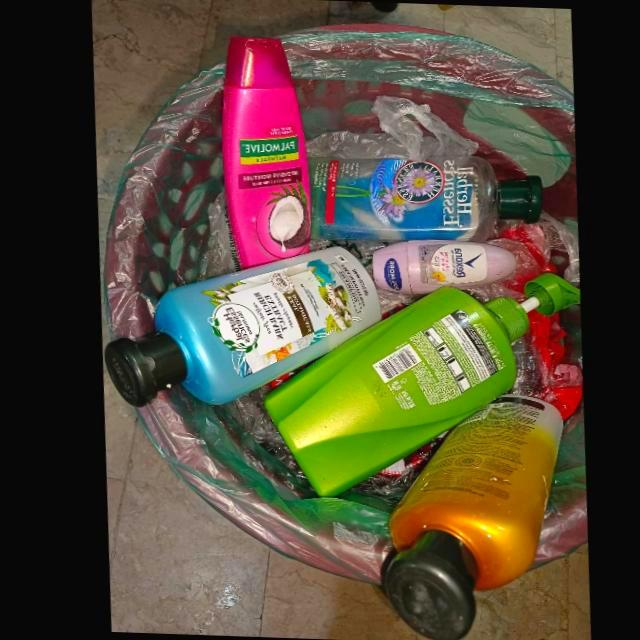plastic_bottle: (258, 273, 577, 498), (373, 394, 559, 640), (99, 246, 378, 408), (219, 37, 313, 275), (308, 156, 541, 242), (369, 240, 514, 295)
